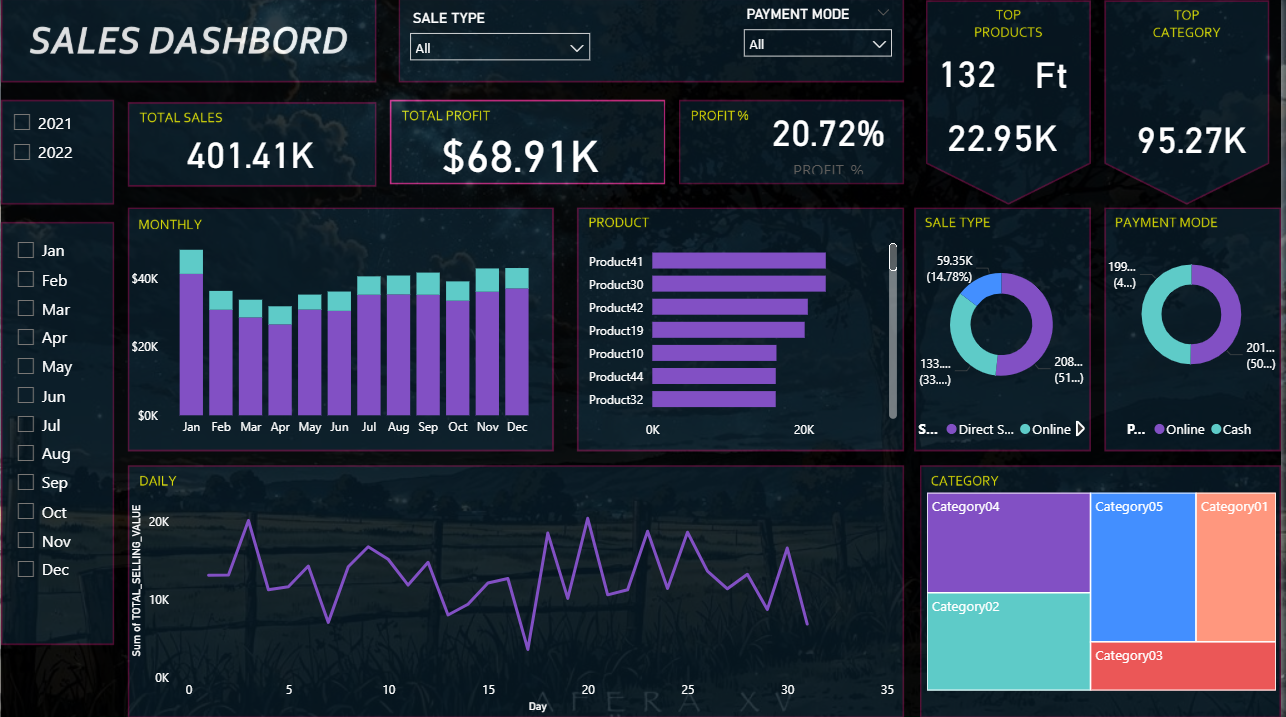

The page's visual inventory and layout, read from the dashboard file:
{"tool":"powerbi","page":{"name":"Page 1","canvas":[1280,720],"ordinal":0},"visuals":[{"type":"slicer","fields":{"Values":["Input Data.Year"]},"box":[0,105,111.2,107.5],"z":0},{"type":"slicer","fields":{"Values":["Input Data.Month Name"]},"box":[3.8,232.5,107.5,387.5],"z":1000},{"type":"slicer","fields":{"Values":["Input Data.SALE TYPE"]},"box":[398.8,6.2,200,73.8],"z":2000},{"type":"slicer","fields":{"Values":["Input Data.PAYMENT MODE"]},"box":[732.5,2.5,168.8,85],"z":3000},{"type":"card","fields":{"Values":["Sum(Input Data.TOTAL_SELLING_VALUE)"]},"box":[125,126.2,248.8,55],"z":4000},{"type":"card","fields":{"Values":["Input Data.PROFIT_%"]},"box":[753.8,105,147.5,76.2],"z":5000},{"type":"card","title":"TOTAL SELLING VALUE ","fields":{"Values":["Sum(Input Data.TOTAL_SELLING_VALUE)"]},"box":[1121.2,87.5,138.8,103.8],"z":6000},{"type":"card","title":"SELLING VALUE","fields":{"Values":["Sum(Input Data.TOTAL_SELLING_VALUE)"]},"box":[922.5,105,157.5,63.8],"z":7000},{"type":"card","title":"UOM","fields":{"Values":["Min(Input Data.Master Data.UOM)"]},"box":[1012.5,48.8,76.2,51.2],"z":8000},{"type":"card","title":"QUANTITY","fields":{"Values":["Sum(Input Data.QUANTITY)"]},"box":[931.2,43.8,70,58.8],"z":9000},{"type":"columnChart","fields":{"Category":["Input Data.Month Name"],"Y":["Sum(Input Data.TOTAL_SELLING_VALUE)","Input Data.PROFIT"]},"box":[125,232.5,420,215],"z":10000},{"type":"clusteredBarChart","fields":{"Y":["Sum(Input Data.TOTAL_SELLING_VALUE)"],"Category":["Input Data.Master Data.PRODUCT"]},"box":[577.5,232.5,323.8,217.5],"z":11000},{"type":"areaChart","fields":{"Y":["Sum(Input Data.TOTAL_SELLING_VALUE)"],"Category":["Input Data.Day"]},"box":[125,471.2,776.2,248.8],"z":12000},{"type":"donutChart","title":"SALE TYPE","fields":{"Category":["Input Data.SALE TYPE"],"Y":["Sum(Input Data.TOTAL_SELLING_VALUE)"]},"box":[912.5,232.5,176.2,217.5],"z":13000},{"type":"donutChart","title":"PAYMENT MODE","fields":{"Category":["Input Data.PAYMENT MODE"],"Y":["Sum(Input Data.TOTAL_SELLING_VALUE)"]},"box":[1101.2,212.5,178.8,237.5],"z":14000},{"type":"treemap","title":"CATEGORY","fields":{"Values":["Sum(Input Data.TOTAL_SELLING_VALUE)"],"Group":["Input Data.Master Data.CATEGORY"]},"box":[921.2,490,358.8,207.5],"z":15000},{"type":"card","fields":{"Values":["Input Data.PROFIT"]},"box":[398.5,126.5,241.5,55.3],"z":16000}]}

Visuals, with their boxes in screenshot pixels (x1, y1, x2, y2), scaled from the page's 1280x720 canvas onto the 1286x717 screenshot:
slicer - Input Data.Year: pyautogui.locateOnScreen(0, 105, 112, 212)
slicer - Input Data.Month Name: pyautogui.locateOnScreen(4, 232, 112, 617)
slicer - Input Data.SALE TYPE: pyautogui.locateOnScreen(401, 6, 602, 80)
slicer - Input Data.PAYMENT MODE: pyautogui.locateOnScreen(736, 2, 906, 87)
card - Sum(Input Data.TOTAL_SELLING_VALUE): pyautogui.locateOnScreen(126, 126, 376, 180)
card - Input Data.PROFIT_%: pyautogui.locateOnScreen(757, 105, 906, 180)
"TOTAL SELLING VALUE " card: pyautogui.locateOnScreen(1126, 87, 1266, 191)
"SELLING VALUE" card: pyautogui.locateOnScreen(927, 105, 1085, 168)
"UOM" card: pyautogui.locateOnScreen(1017, 49, 1094, 100)
"QUANTITY" card: pyautogui.locateOnScreen(936, 44, 1006, 102)
columnChart - Input Data.Month Name x Sum(Input Data.TOTAL_SELLING_VALUE): pyautogui.locateOnScreen(126, 232, 548, 446)
clusteredBarChart - Sum(Input Data.TOTAL_SELLING_VALUE) x Input Data.Master Data.PRODUCT: pyautogui.locateOnScreen(580, 232, 906, 448)
areaChart - Sum(Input Data.TOTAL_SELLING_VALUE) x Input Data.Day: pyautogui.locateOnScreen(126, 469, 905, 716)
"SALE TYPE" donutChart: pyautogui.locateOnScreen(917, 232, 1094, 448)
"PAYMENT MODE" donutChart: pyautogui.locateOnScreen(1106, 212, 1285, 448)
"CATEGORY" treemap: pyautogui.locateOnScreen(926, 488, 1285, 695)
card - Input Data.PROFIT: pyautogui.locateOnScreen(400, 126, 643, 181)
